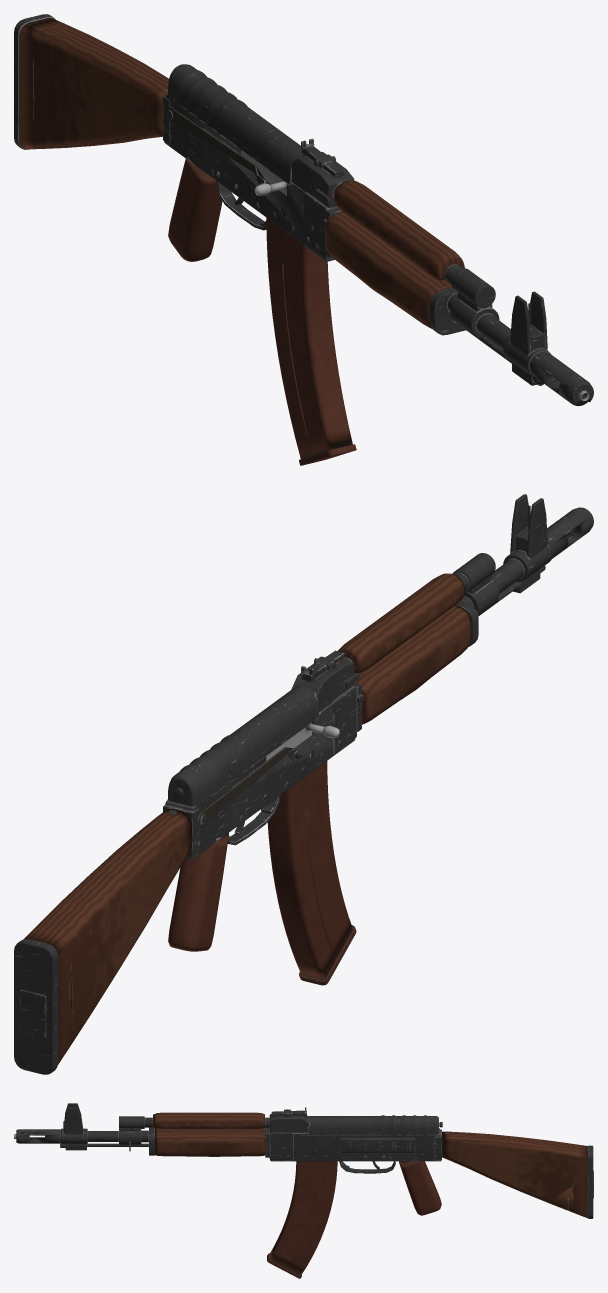
The picture shows the model from 3 angles, top to bottom: view 1: azimuth 30°, elevation 25°; view 2: azimuth 150°, elevation 25°; view 3: azimuth 270°, elevation 25°; orthographic projection. The views are drawn at different scales.
Parts seen in each view (by area): view 1: Body, Mag, Bolt; view 2: Body, Mag; view 3: Body, Mag.
Part boxes in pixels (<box>): Body: <box>14,14,593,406</box>; Mag: <box>266,217,356,465</box>; Bolt: <box>241,150,286,195</box>; Body: <box>14,494,593,1074</box>; Mag: <box>267,761,356,985</box>; Body: <box>14,1103,593,1218</box>; Mag: <box>267,1161,337,1278</box>.
Bounding box in the file's own units: 0.0691 × 0.319 × 0.9837.
